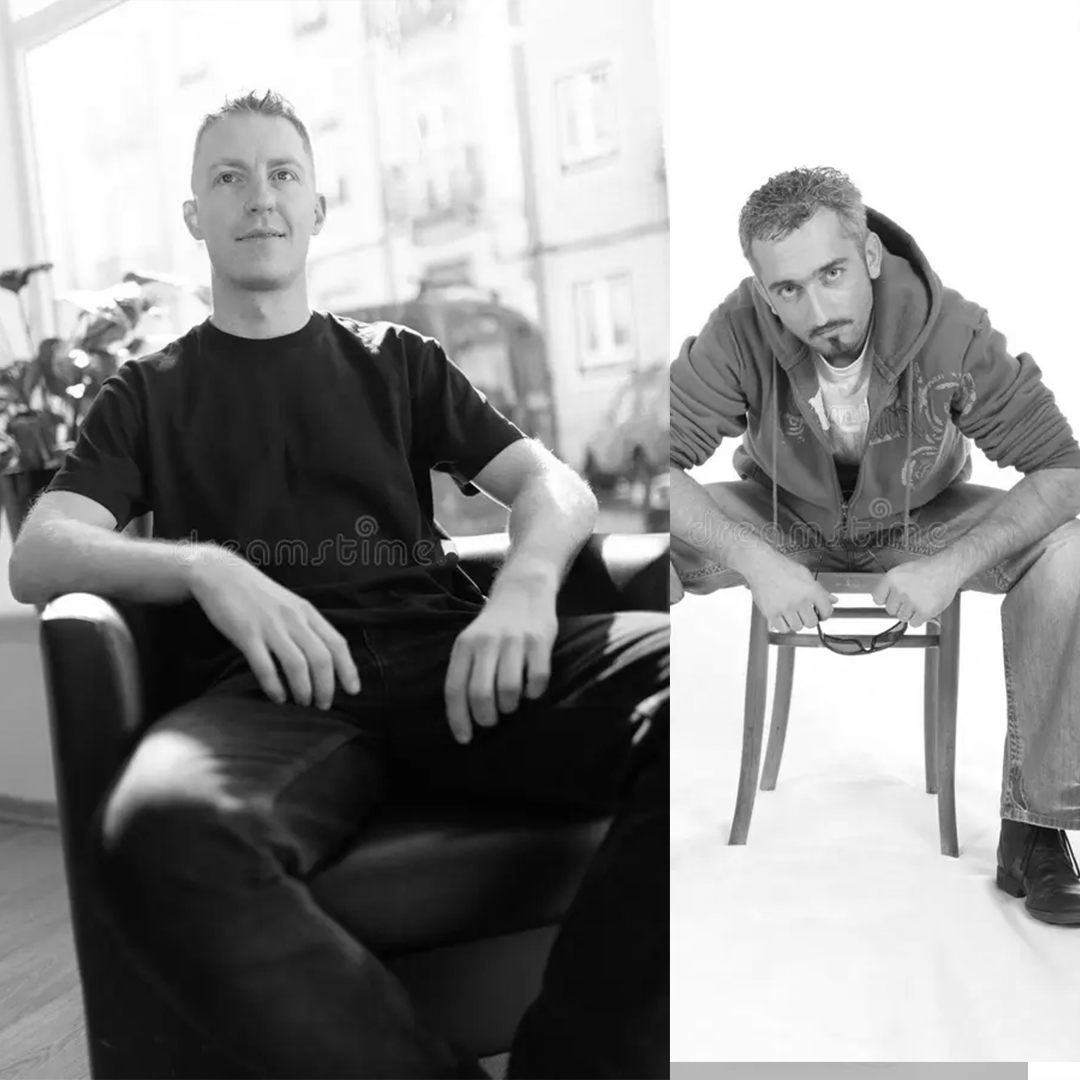Focused: (669, 121, 986, 619)
distracted: (124, 73, 455, 566)
